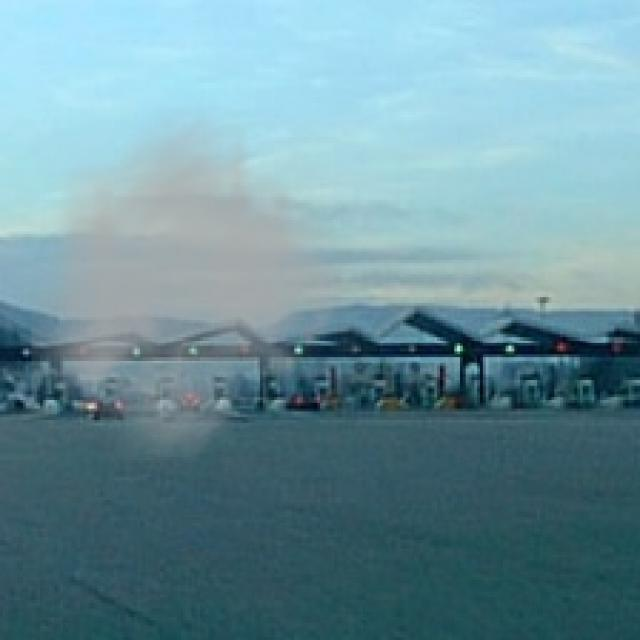Smoke: (32, 97, 374, 477)
